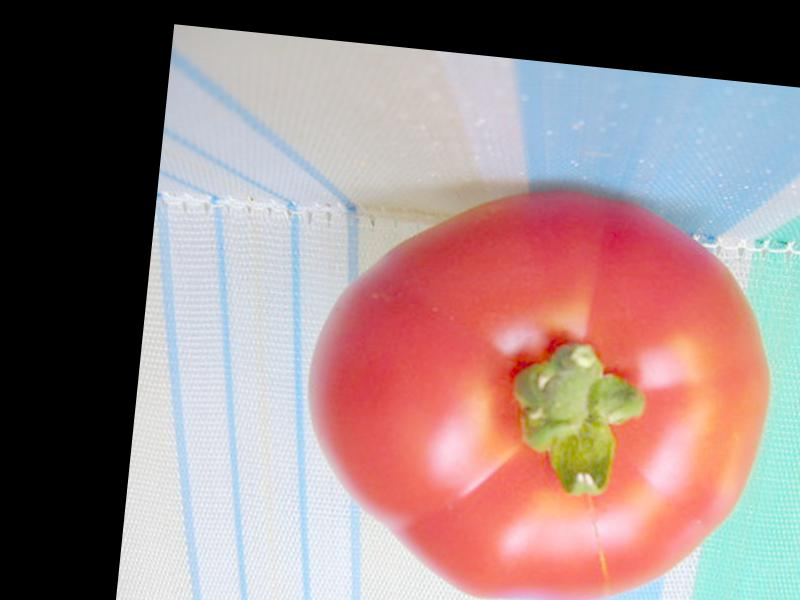Tomato: (292, 165, 787, 600)
